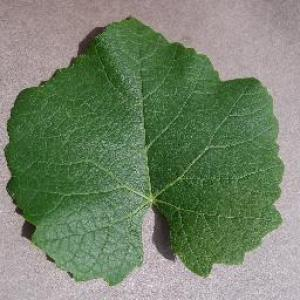Folha: (2, 15, 285, 287)
